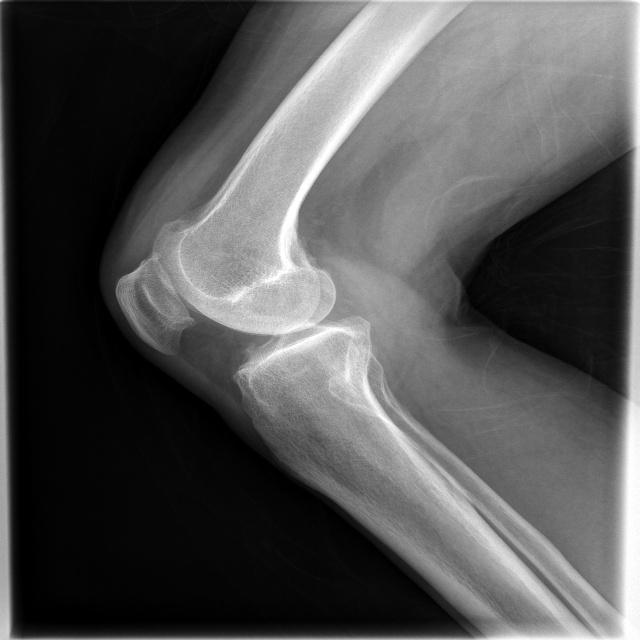Knee: (109, 212, 376, 398)
